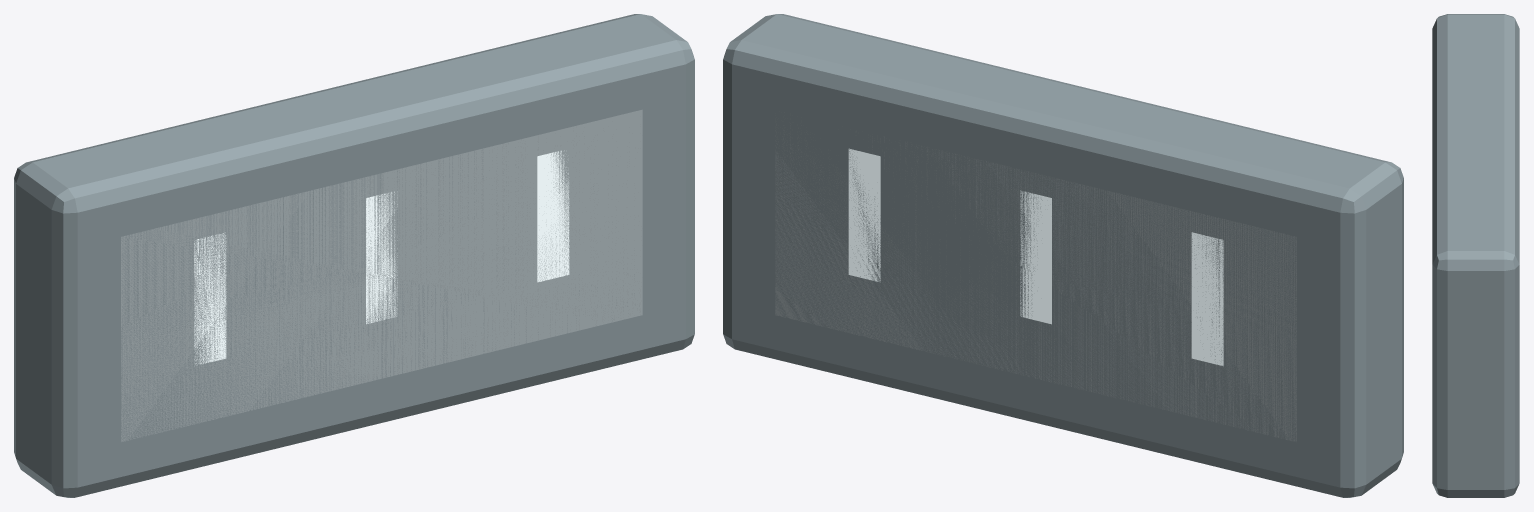
Rendered from wall-mirror.glb.
The picture shows the model from 3 angles, left to right: view 1: azimuth 30°, elevation 25°; view 2: azimuth 150°, elevation 25°; view 3: azimuth 270°, elevation 25°; orthographic projection. The views are drawn at different scales.
Parts seen in each view (by area): view 1: mesh_wall_mirror_frame, mesh_wall_mirror_body, mesh_wall_mirror_accent; view 2: mesh_wall_mirror_frame, mesh_wall_mirror_body, mesh_wall_mirror_accent; view 3: mesh_wall_mirror_frame.
Part boxes in pixels (left/top/right/bottom): mesh_wall_mirror_frame: left=14, top=14, right=694, bottom=497; mesh_wall_mirror_body: left=121, top=109, right=642, bottom=441; mesh_wall_mirror_accent: left=194, top=150, right=569, bottom=365; mesh_wall_mirror_frame: left=723, top=14, right=1403, bottom=497; mesh_wall_mirror_body: left=775, top=112, right=1296, bottom=441; mesh_wall_mirror_accent: left=848, top=148, right=1223, bottom=366; mesh_wall_mirror_frame: left=1432, top=14, right=1519, bottom=497.
Bounding box in the file's own units: 1.08 × 0.5 × 0.16.
